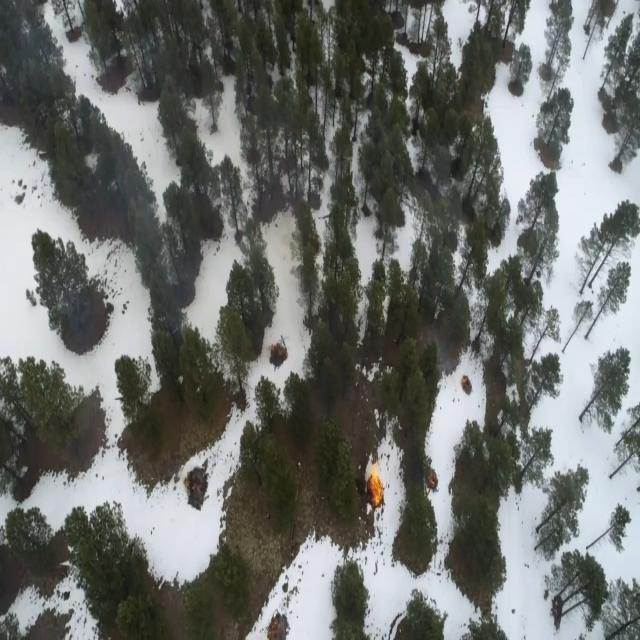Fire: (359, 458, 387, 508)
